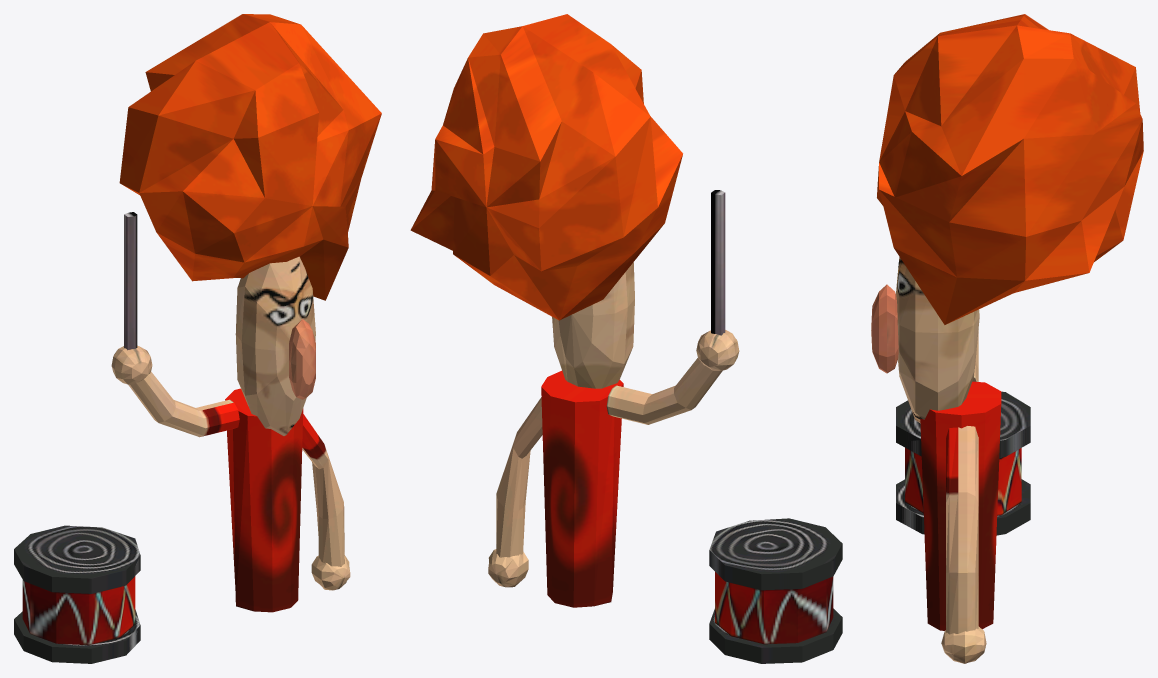
Rendered from Gidi.glb.
The picture shows the model from 3 angles, left to right: view 1: azimuth 30°, elevation 25°; view 2: azimuth 150°, elevation 25°; view 3: azimuth 270°, elevation 25°; orthographic projection. The views are drawn at different scales.
Parts seen in each view (by area): view 1: Gidi; view 2: Gidi; view 3: Gidi.
Boxes of the visible parts, x1=… form: Gidi: x1=14, y1=14, x2=381, y2=663; Gidi: x1=410, y1=14, x2=842, y2=663; Gidi: x1=871, y1=14, x2=1143, y2=663.
Bounding box in the file's own units: 168 × 250 × 100.
Materials: 1 (1 with a texture image).
